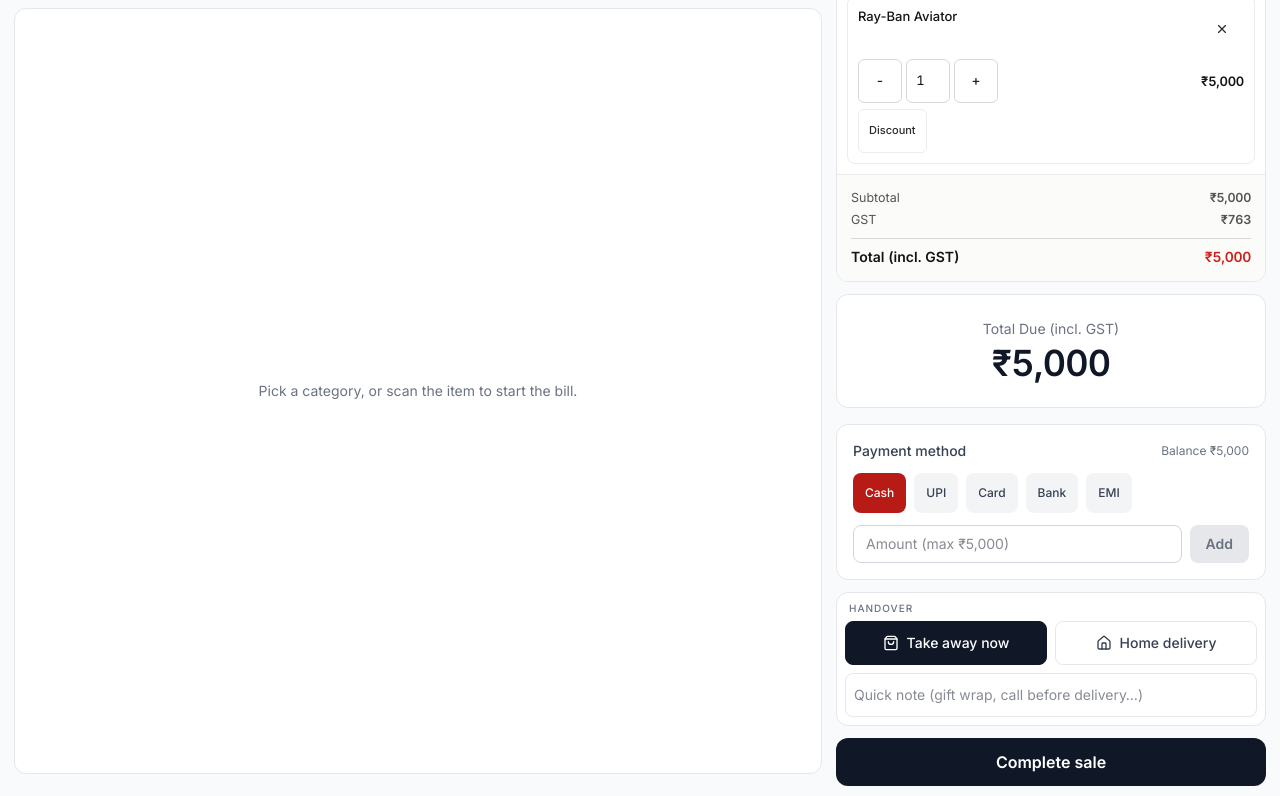
Scenario: the general counter can actually complete a sale › SHOWS the reason when the sale is refused, instead of failing silently
The width and height of the screenshot is (1280, 796).
(page scrolled)
Step 1. Click the button "Complete sale" → (1051, 762), box left=836, top=738, right=1266, bottom=786
(page scrolled)
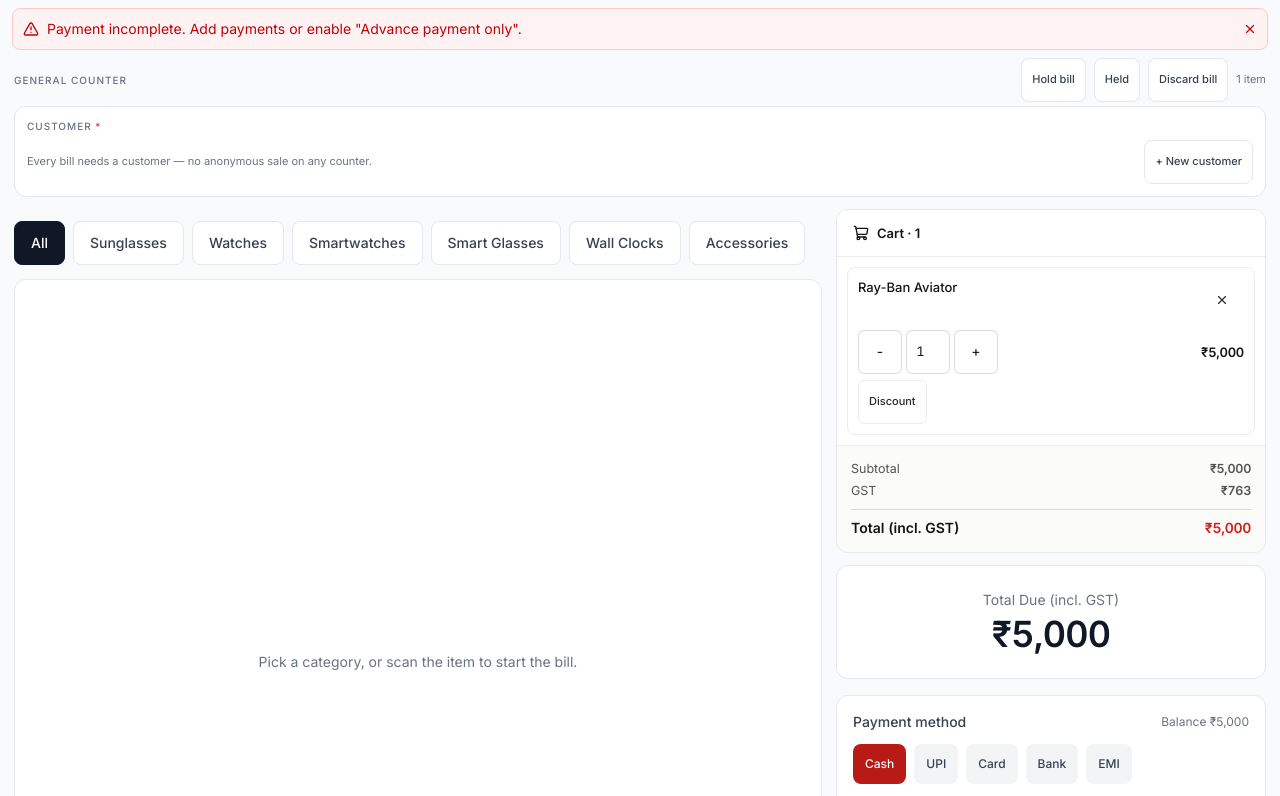
Expected: the text "Payment incomplete" is shown, left=47, top=20, right=522, bottom=37
